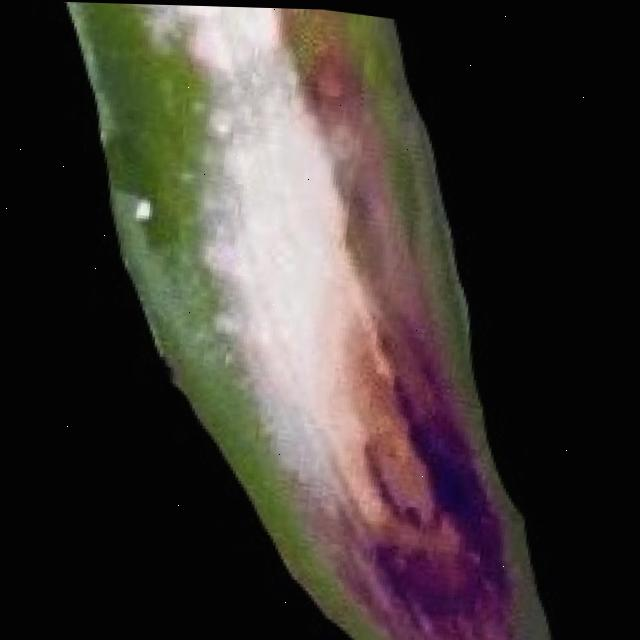mite: (82, 3, 218, 257), (103, 165, 191, 265), (115, 185, 161, 234), (125, 192, 157, 227)
